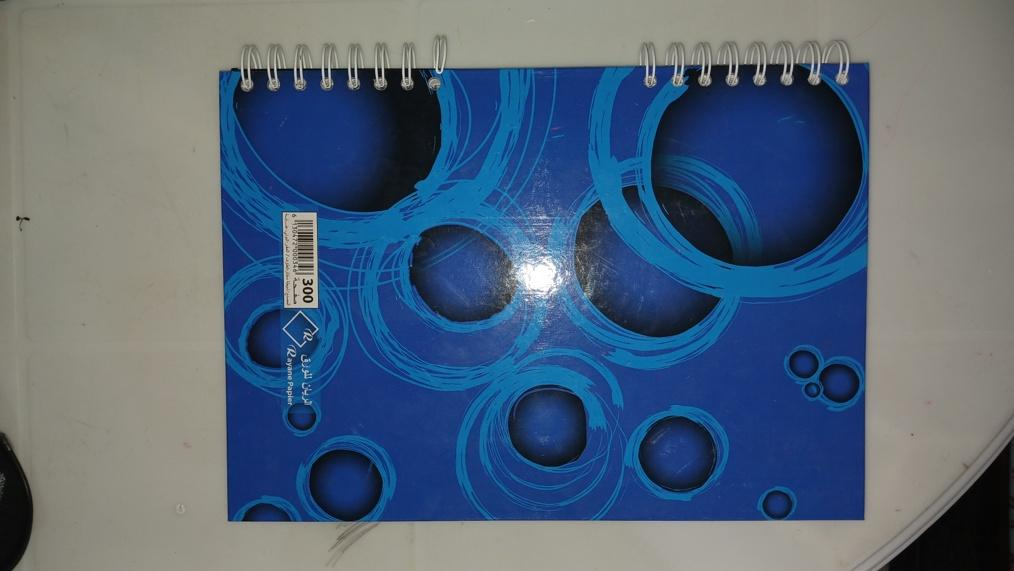notebook: (223, 42, 875, 526)
